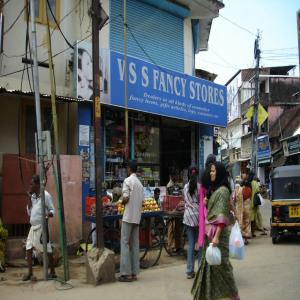Vehicle-registration-plate: (289, 206, 300, 218)
